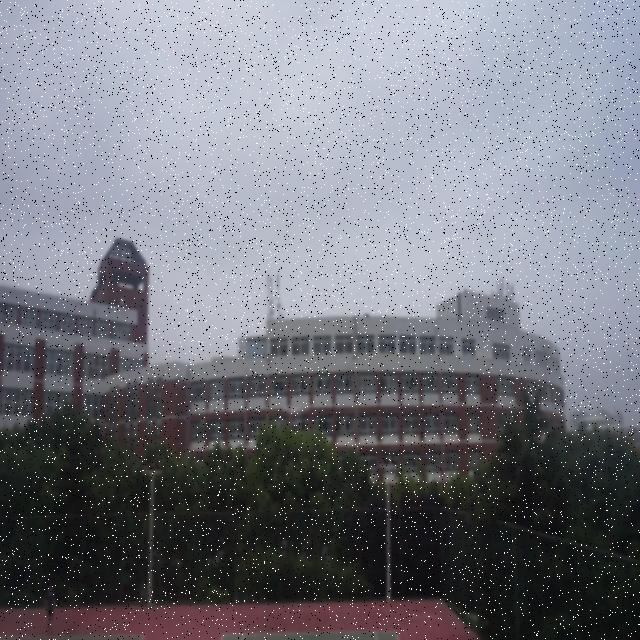UAV: (281, 407, 310, 424)
